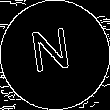N_S: (32, 28, 78, 82)
